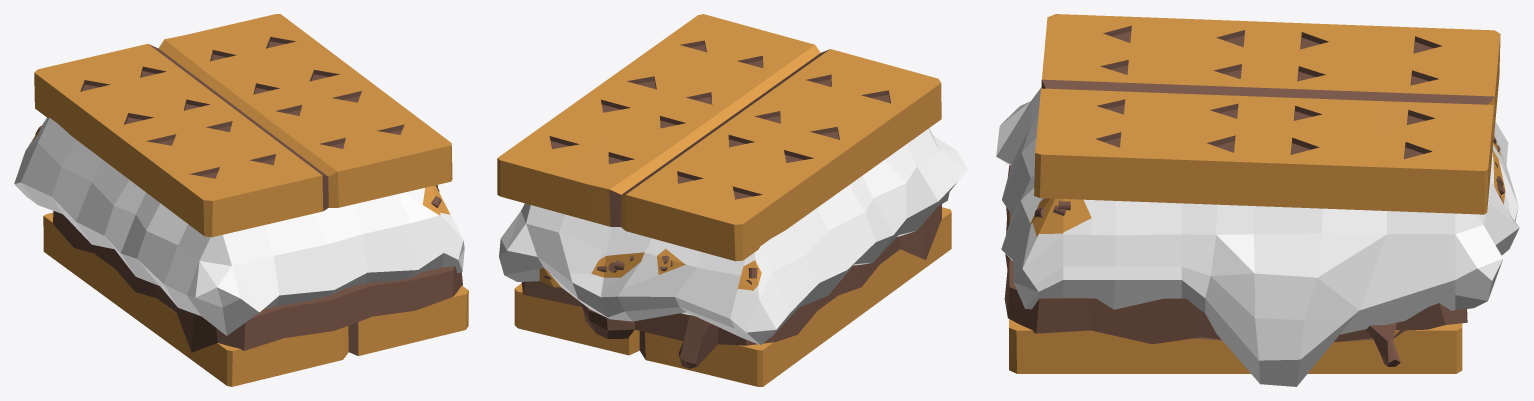
File: S'more - toasted by sirkitree - 4Er9zaRIQj-.glb
3 renders of one model, left to right at view 1: azimuth 30°, elevation 25°; view 2: azimuth 150°, elevation 25°; view 3: azimuth 270°, elevation 25°, orthographic. The views are drawn at different scales.
Visible parts, largest first — view 1: group1552936898, group1490304416, group1616299453, group1228290543; view 2: group1552936898, group1490304416, group1616299453, group1228290543; view 3: group1552936898, group1490304416, group1616299453, group1228290543.
Boxes of the visible parts, x1,y1,x2,y2 form: group1552936898: [34, 14, 452, 237]; group1490304416: [14, 117, 464, 335]; group1616299453: [43, 212, 468, 386]; group1228290543: [53, 211, 462, 352]; group1552936898: [497, 14, 941, 261]; group1490304416: [499, 128, 967, 344]; group1616299453: [514, 207, 951, 386]; group1228290543: [521, 204, 941, 368]; group1552936898: [1034, 14, 1500, 214]; group1490304416: [996, 87, 1519, 386]; group1616299453: [1009, 319, 1462, 373]; group1228290543: [1004, 165, 1467, 366].
Size of the model in its own units: 0.6863 by 0.4087 by 0.8762.
